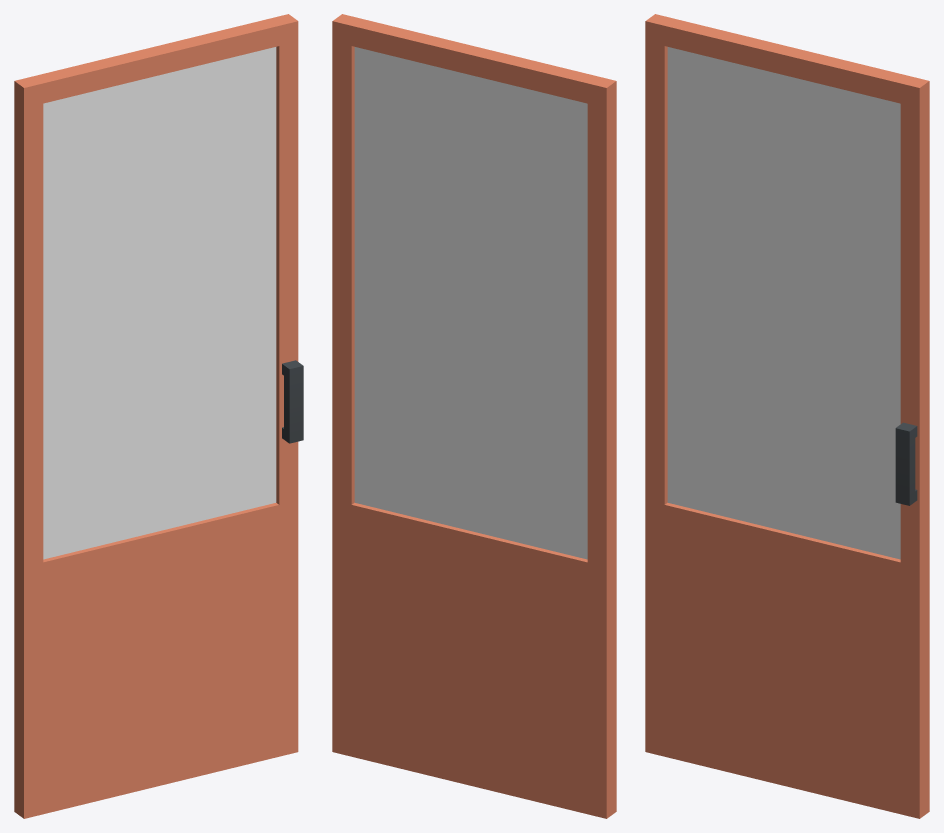
Rendered from Coffee_02_Door01.fbx.
The picture shows the model from 3 angles, left to right: view 1: azimuth 30°, elevation 25°; view 2: azimuth 150°, elevation 25°; view 3: azimuth 330°, elevation 25°; orthographic projection.
Parts seen in each view (by area): view 1: Coffee_02_Door01; view 2: Coffee_02_Door01; view 3: Coffee_02_Door01.
Part boxes in pixels (<box>): Coffee_02_Door01: <box>14,14,303,818</box>; Coffee_02_Door01: <box>332,14,616,818</box>; Coffee_02_Door01: <box>645,14,929,818</box>.
Bounding box in the file's own units: 80.96 × 206 × 8.91.
